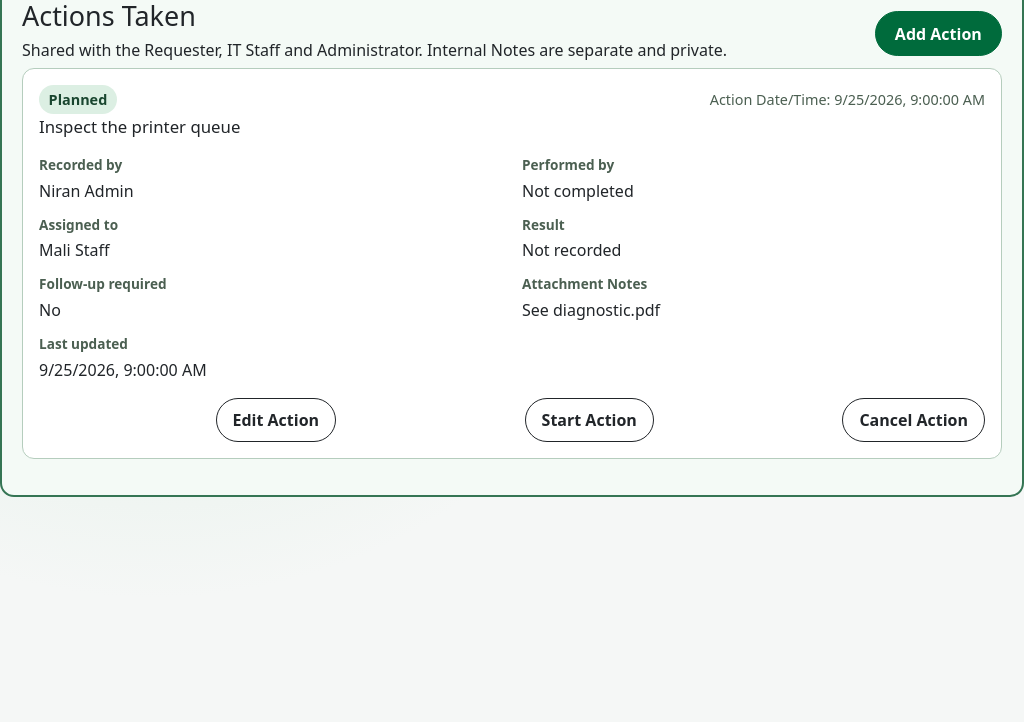
Test: closes a protected draft and removes previously shown records after NOT_FOUND
Expected: the text "Inspect the printer queue" is shown, x1=39 y1=115 x2=240 y2=138
Click the button "Edit Action" at (276, 420), box x1=216 y1=398 x2=336 y2=442
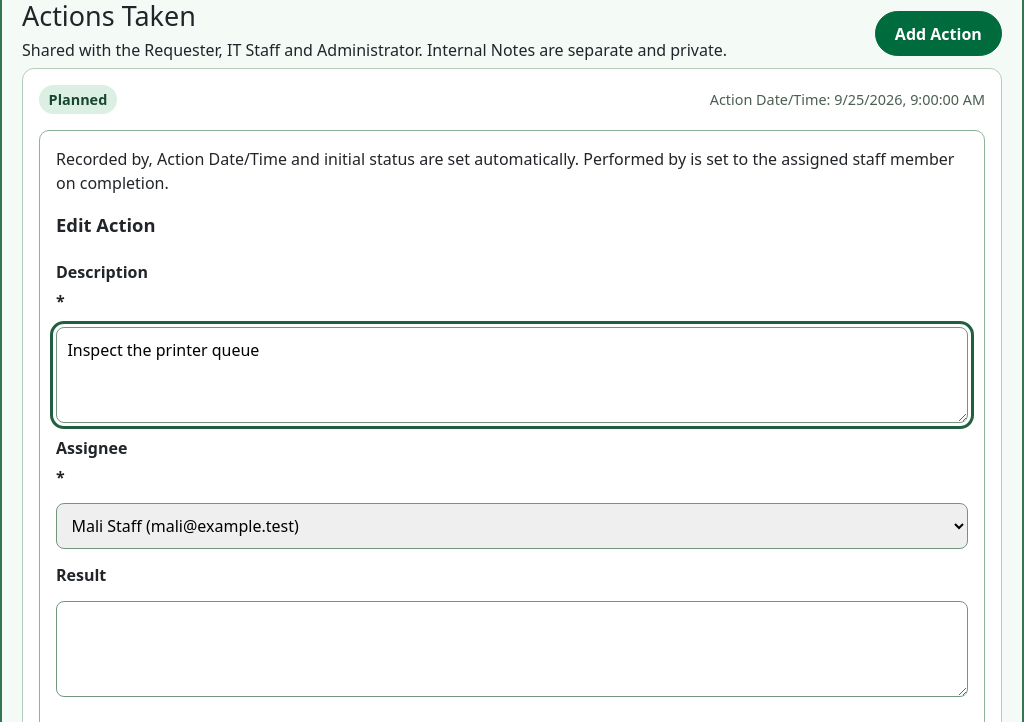
Type " local draft" into the text box named "Edit Action Description" at (512, 375), box x1=56 y1=327 x2=968 y2=423
(page scrolled)
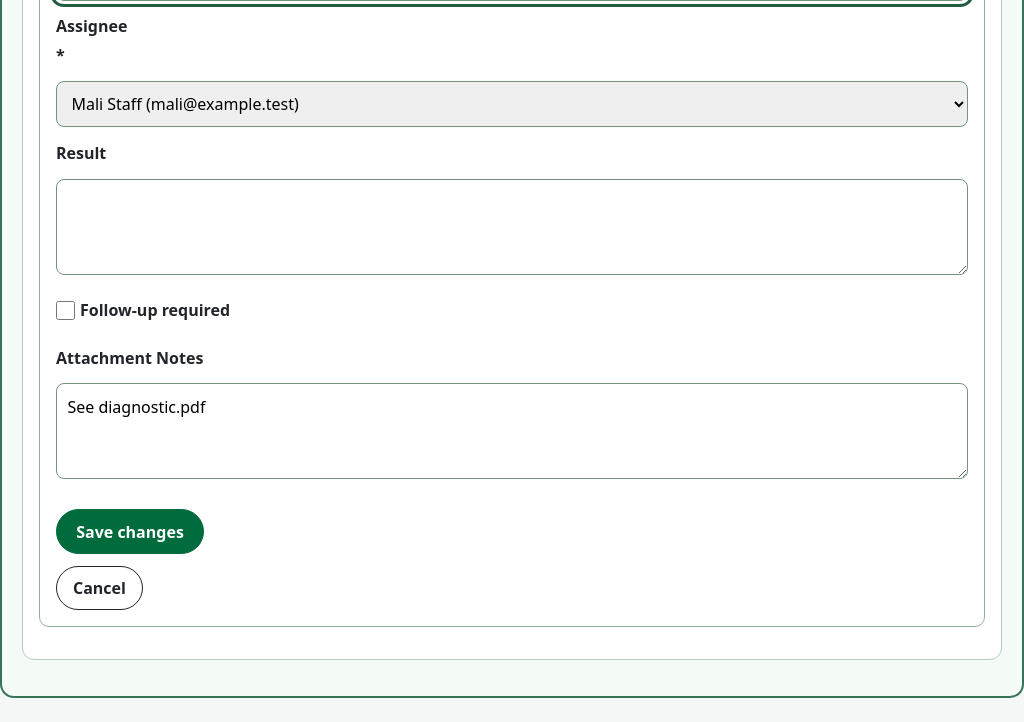
Click the button "Save changes" at (130, 532), box x1=56 y1=509 x2=204 y2=554
(page scrolled)
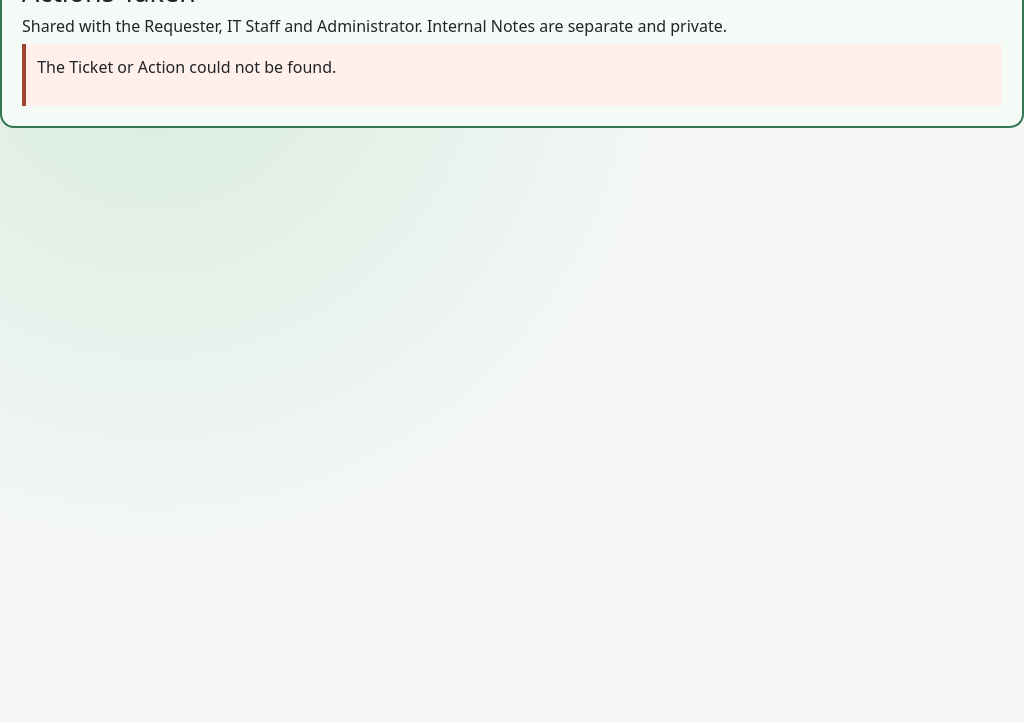
Expected: the text "Inspect the printer queue" is not shown
Now the message reads "The Ticket or Action could not be found.", box x1=37 y1=56 x2=336 y2=78
Now the button "Save changes" is gone
